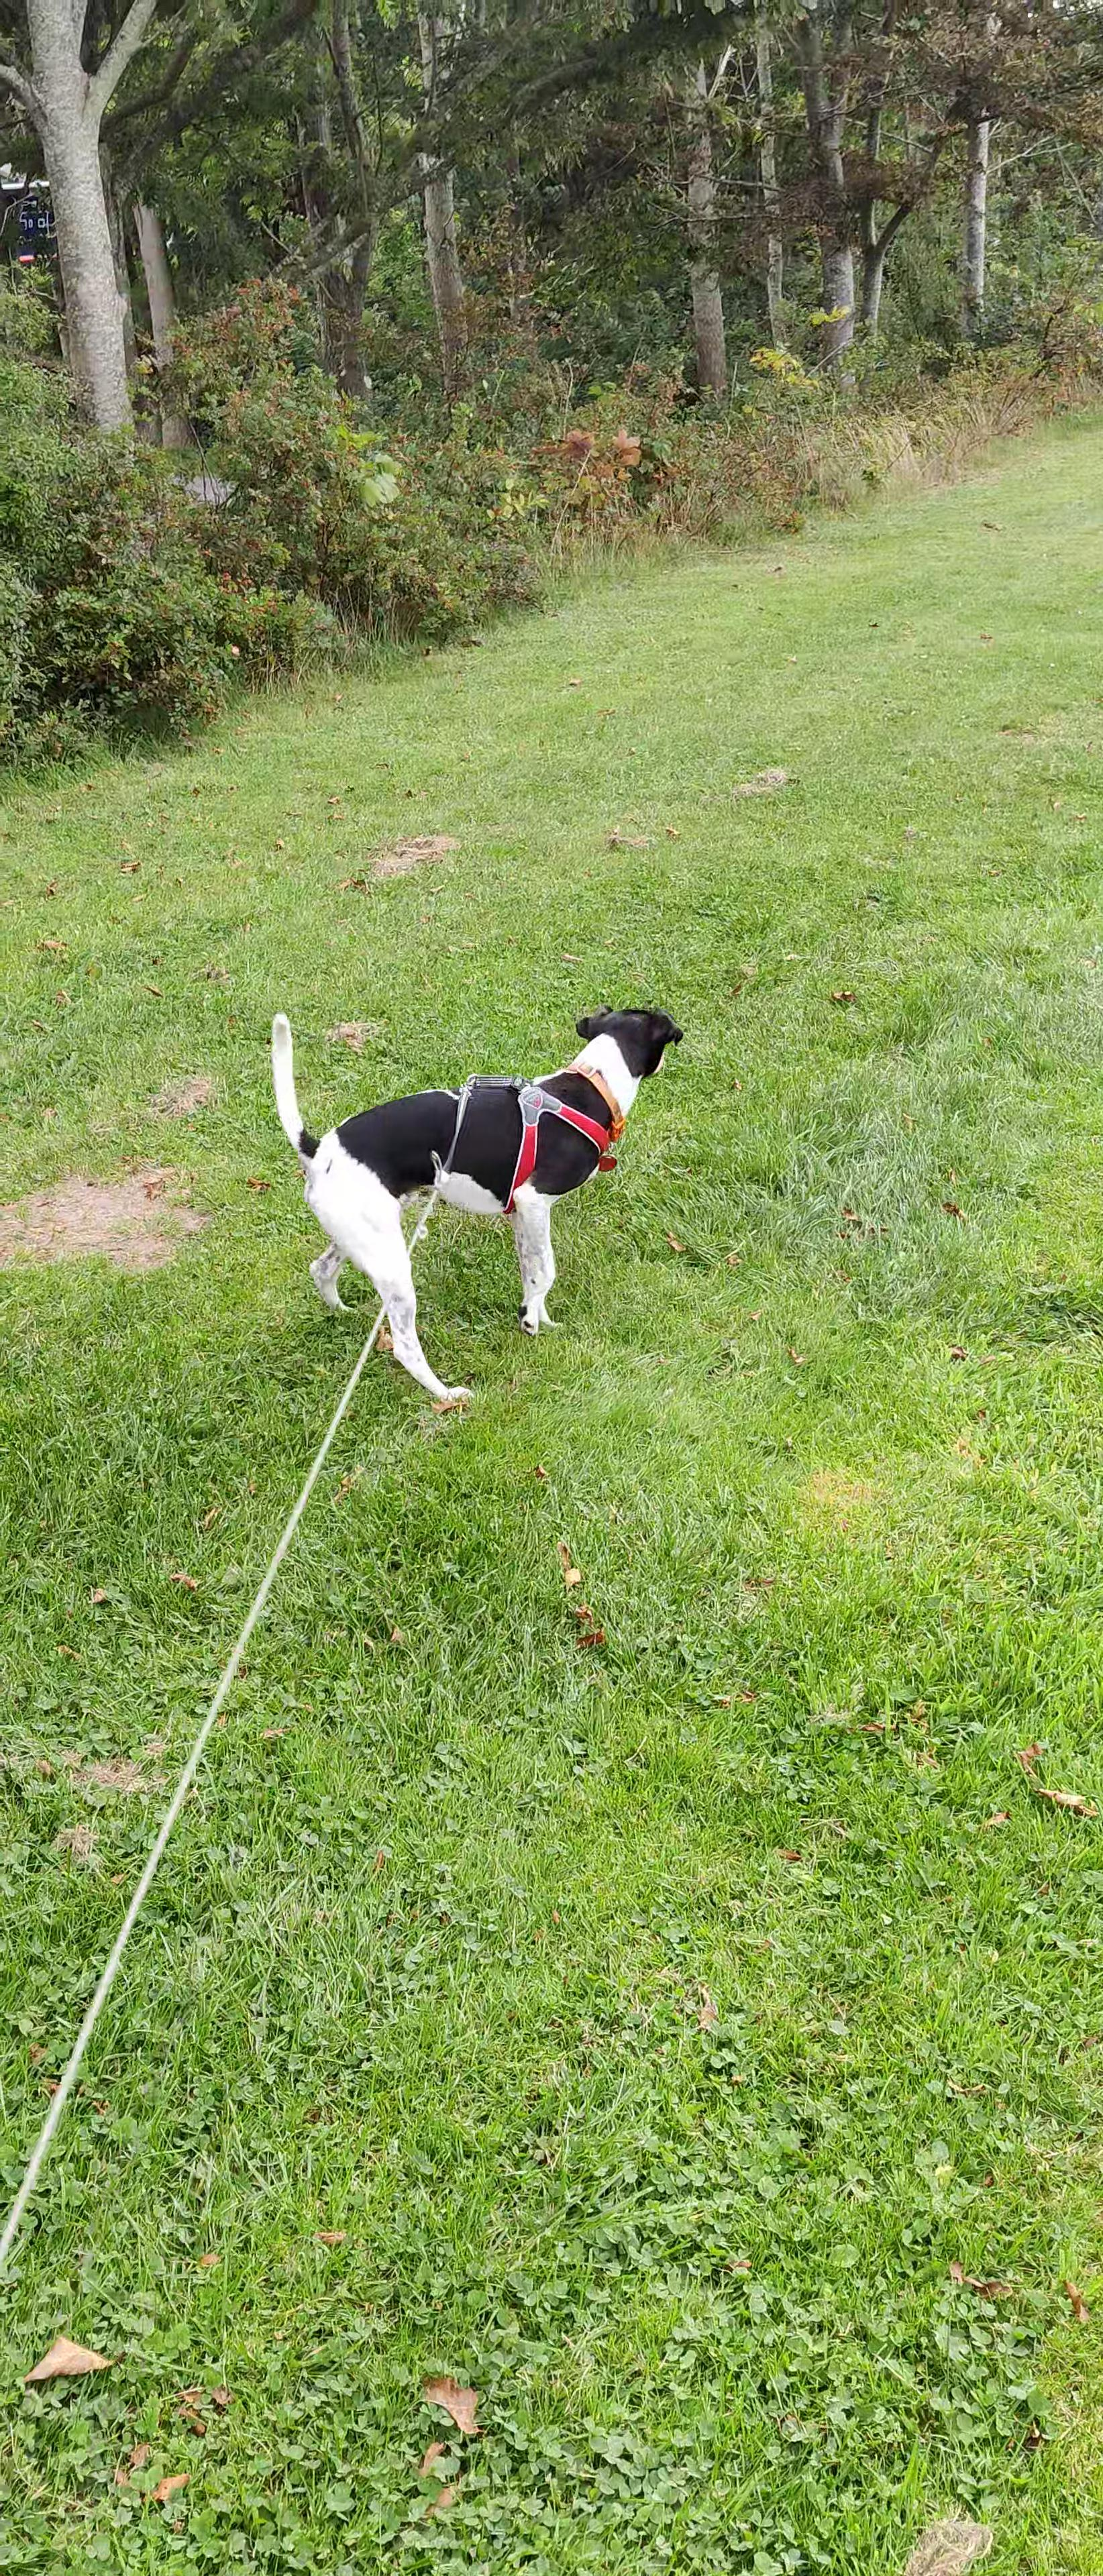Dog: (252, 996, 697, 1405)
